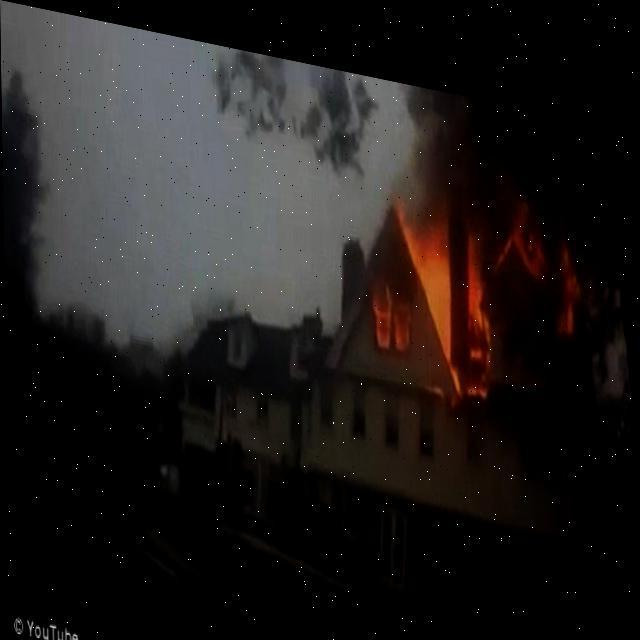Fire: (357, 80, 593, 403)
